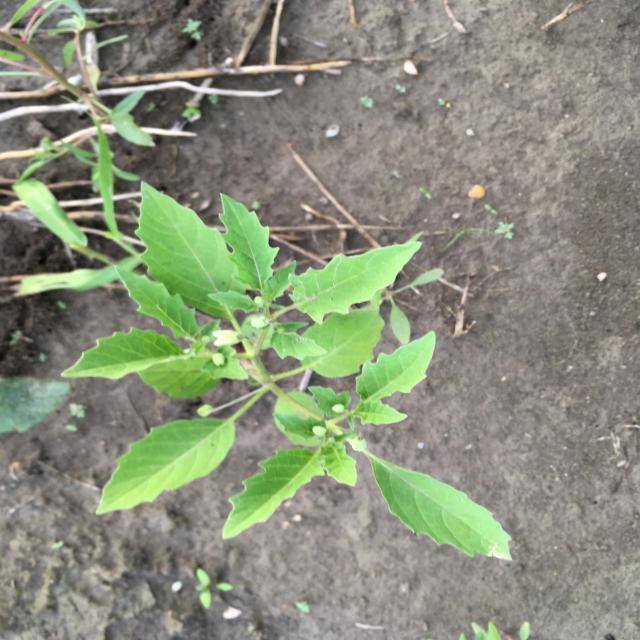CutleafGroundcherry: (58, 178, 517, 565)
